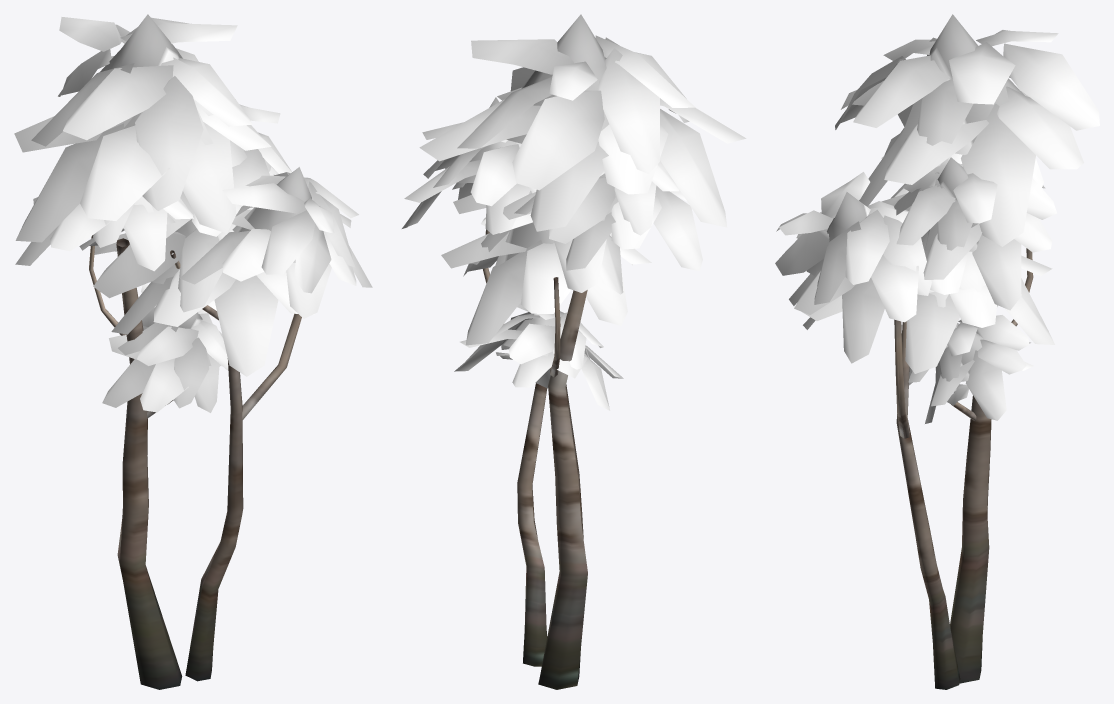
The model's file is Birch_3.FBX.
3 views of the same model, side by side, from view 1: azimuth 30°, elevation 25°; view 2: azimuth 150°, elevation 25°; view 3: azimuth 270°, elevation 25° (orthographic). The views are drawn at different scales.
Visible parts, largest first — view 1: Birch_3; view 2: Birch_3; view 3: Birch_3.
Boxes of the visible parts, <box> form: Birch_3: <box>14,14,372,689</box>; Birch_3: <box>402,14,746,689</box>; Birch_3: <box>775,14,1099,689</box>.
Bounding box in the file's own units: 590 × 1192 × 538.
